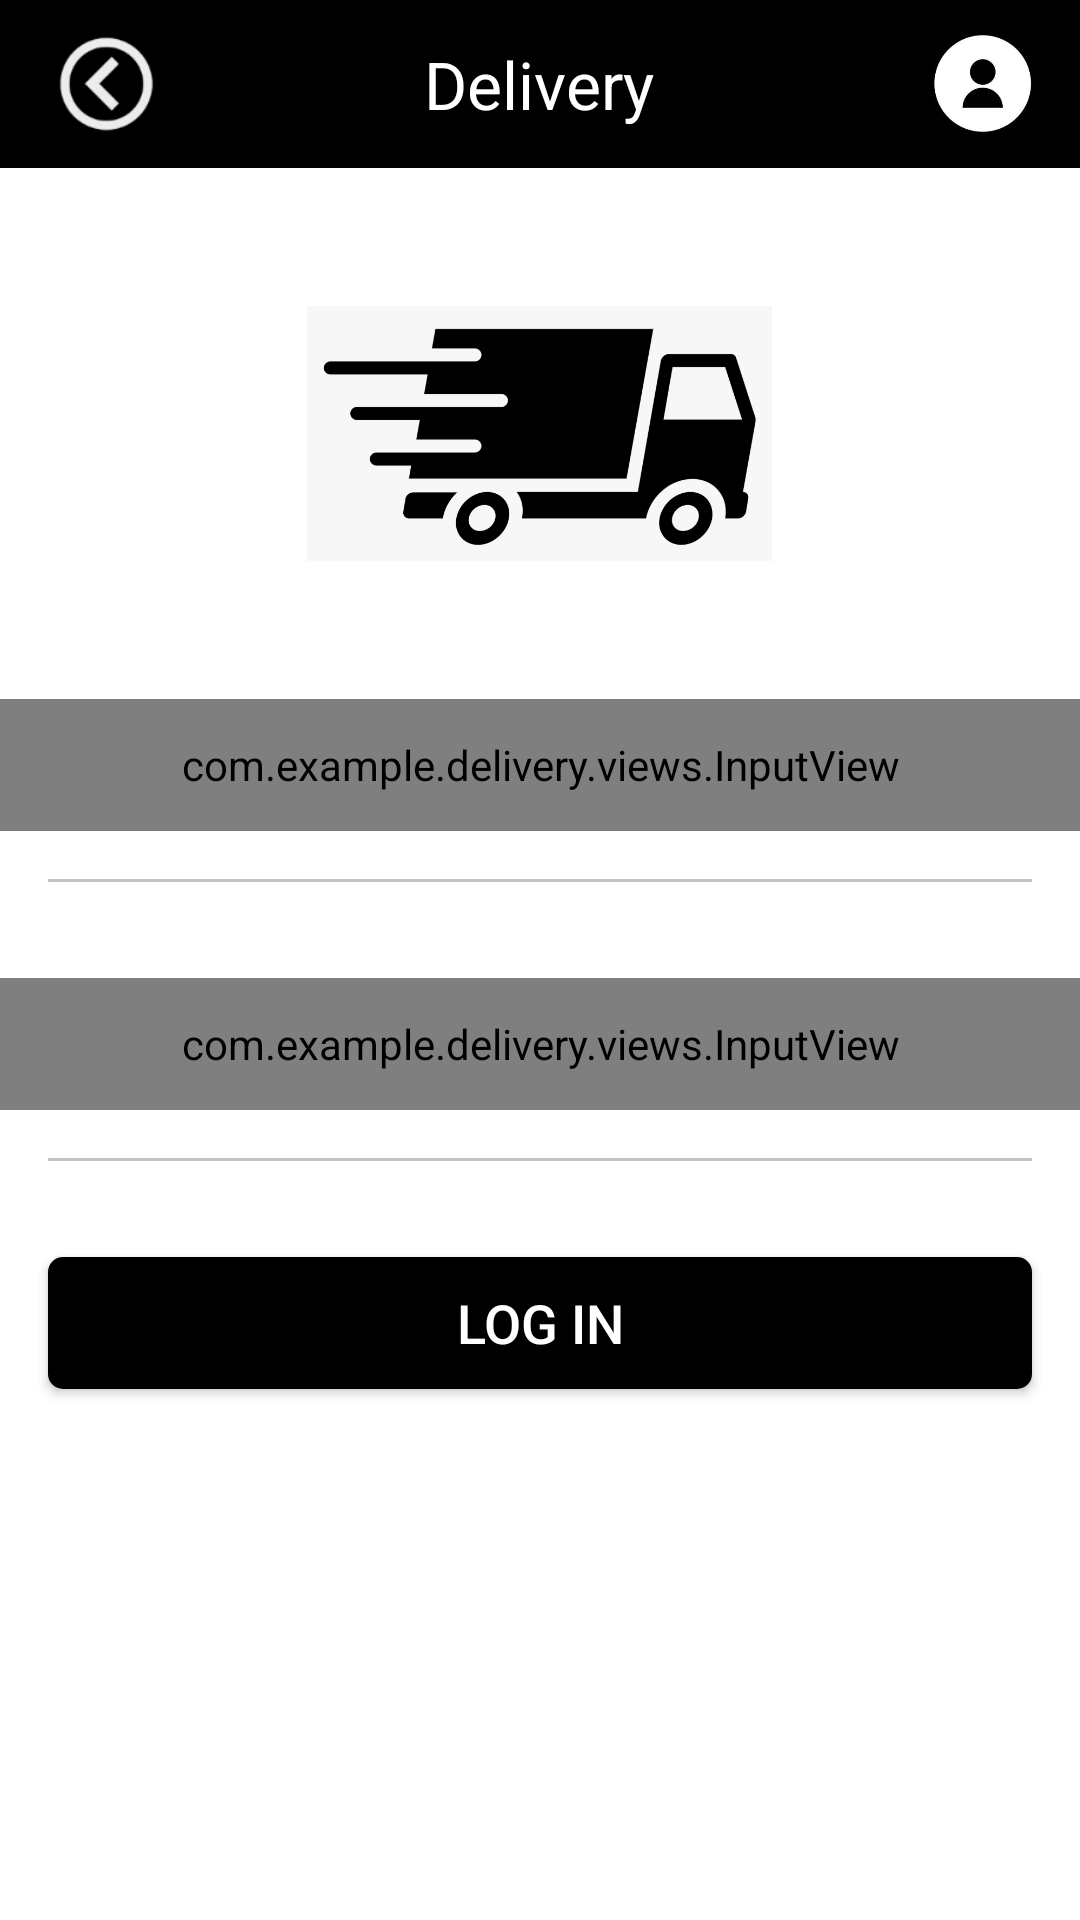

Point at icon controls on the screen. Image size 1080×1920, points as (x,y).
account: (982,83)
back: (106,84)
